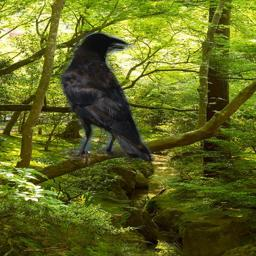Crow: (60, 32, 155, 166)
